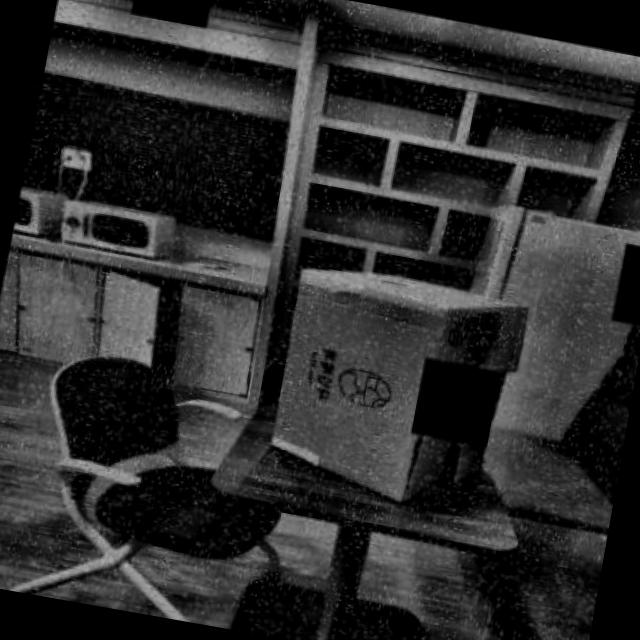box: (248, 240, 540, 530)
